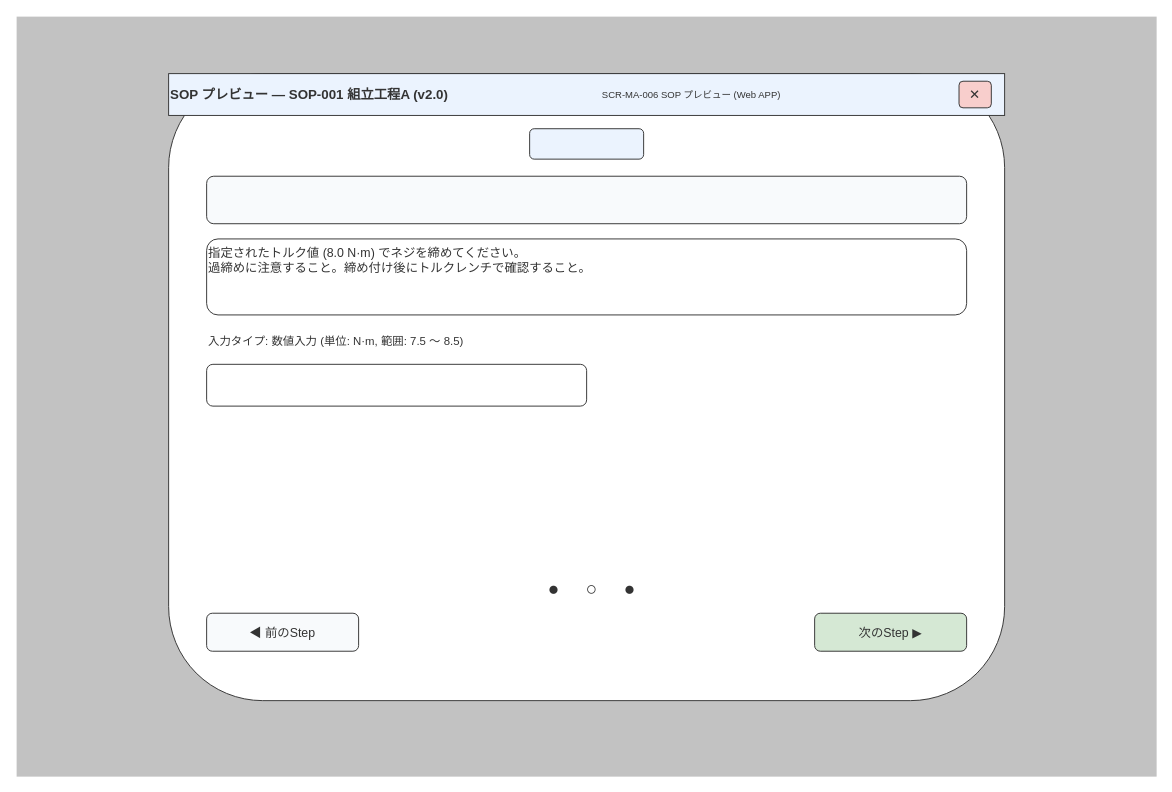
Some shapes in this 1172 by 792 pixel diagram are drawn without their labels. The shapes that lost their labels are listed below. From the top down, each one's centre as x and y in pixels, then its label:
pixel 586 143: Step 2 / 3
pixel 586 199: Step 2: 組立作業
pixel 396 384: [ 数値入力欄 ] _______ N·m
